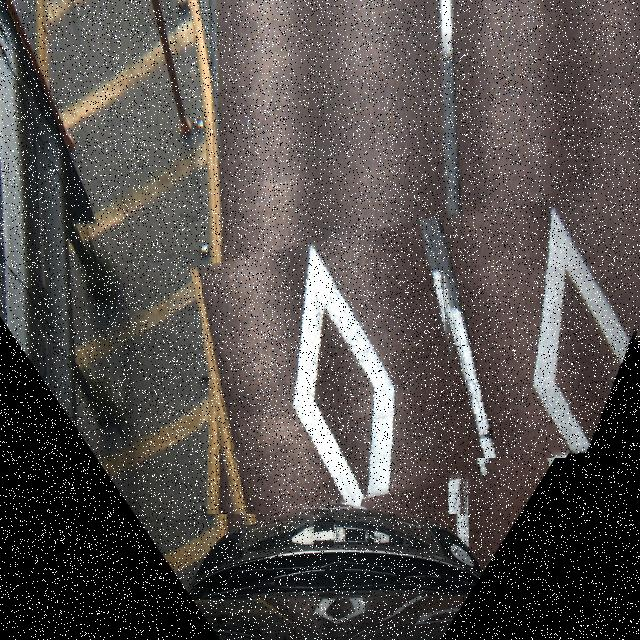diamond: (202, 229, 475, 514), (441, 193, 640, 458)
